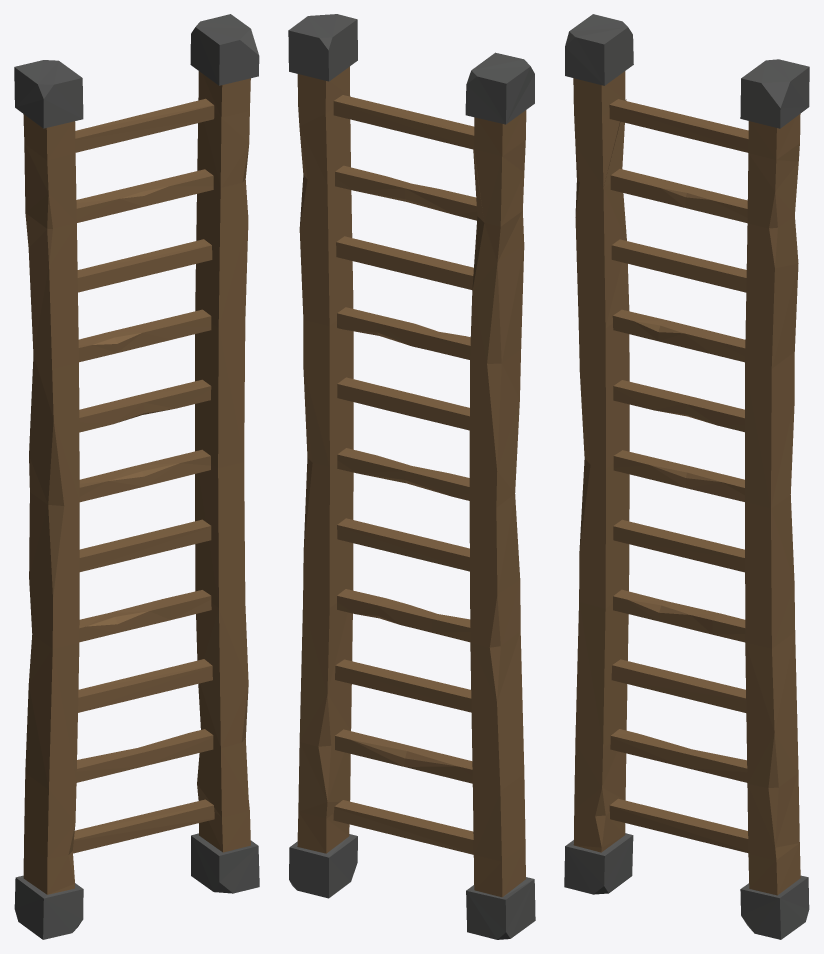
Rendered from SFHW_Stair_001.fbx.
3 views of the same model, side by side, from view 1: azimuth 30°, elevation 25°; view 2: azimuth 150°, elevation 25°; view 3: azimuth 330°, elevation 25° (orthographic).
Visible parts, largest first — view 1: SFHW_Stair_001; view 2: SFHW_Stair_001; view 3: SFHW_Stair_001.
Boxes of the visible parts, <box> form: SFHW_Stair_001: <box>14,14,259,939</box>; SFHW_Stair_001: <box>288,14,535,939</box>; SFHW_Stair_001: <box>564,14,809,939</box>.
Size of the model in its own units: 67.26 by 252 by 15.68.
